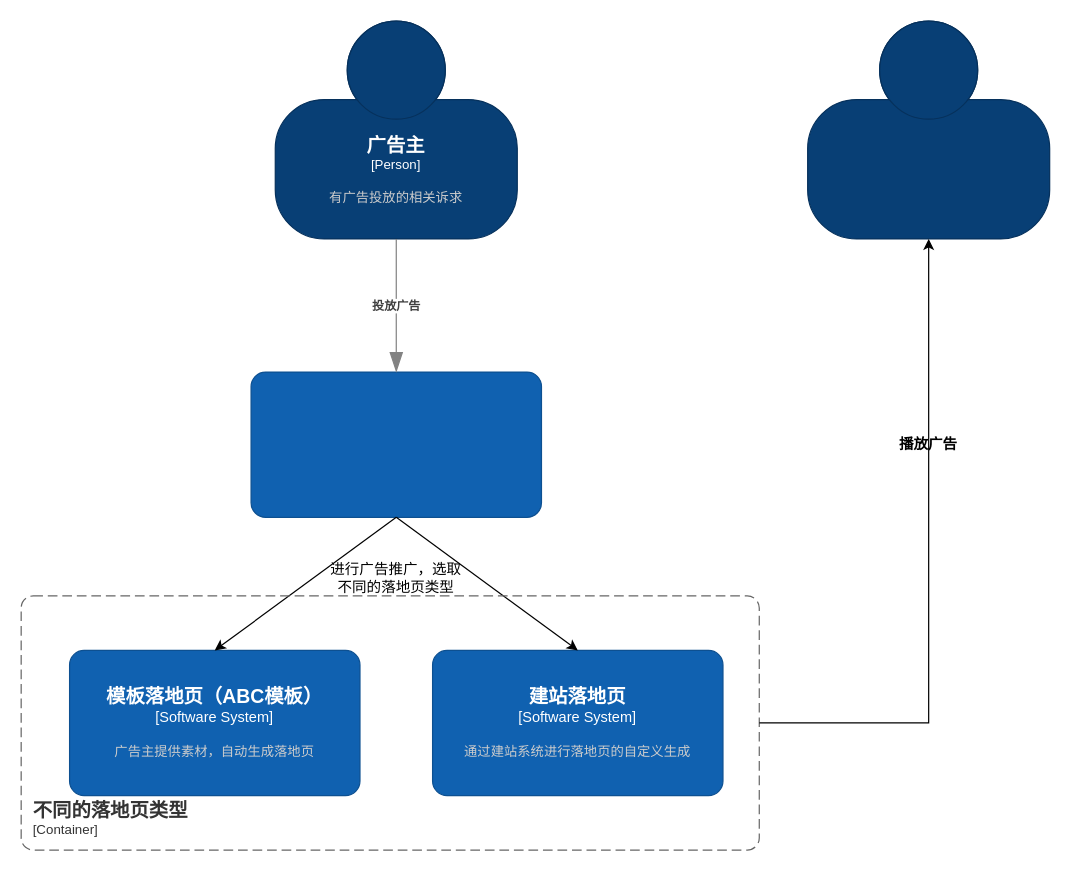
This 1071x871 diagram has some shape labels left out. Here are the shapes that lost their labels. From the top down, the centre of each, then its label:
At point (928, 129): "落地页客户 [Person] 联盟、信息流等广告场景会打开该落地页".
At point (395, 444): "营销平台 [Software System] 进行广告的定向投放".
